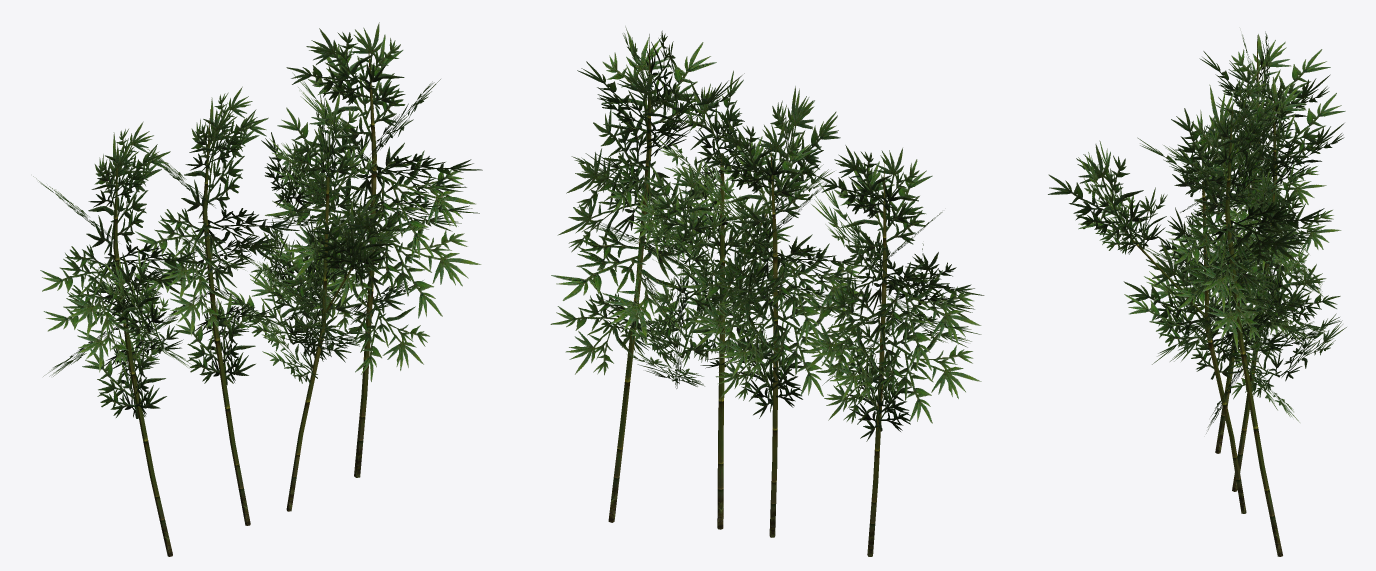
The model's file is tree_a.FBX.
3 renders of one model, left to right at view 1: azimuth 30°, elevation 25°; view 2: azimuth 150°, elevation 25°; view 3: azimuth 270°, elevation 25°, orthographic. The views are drawn at different scales.
Parts seen in each view (by area): view 1: tree_a; view 2: tree_a; view 3: tree_a.
Part boxes in pixels (<box>): tree_a: <box>33,22,482,556</box>; tree_a: <box>550,26,984,556</box>; tree_a: <box>1048,31,1346,556</box>.
Size of the model in its own units: 7.99 by 8.3 by 5.17.
Materials: 1 (1 with a texture image).
